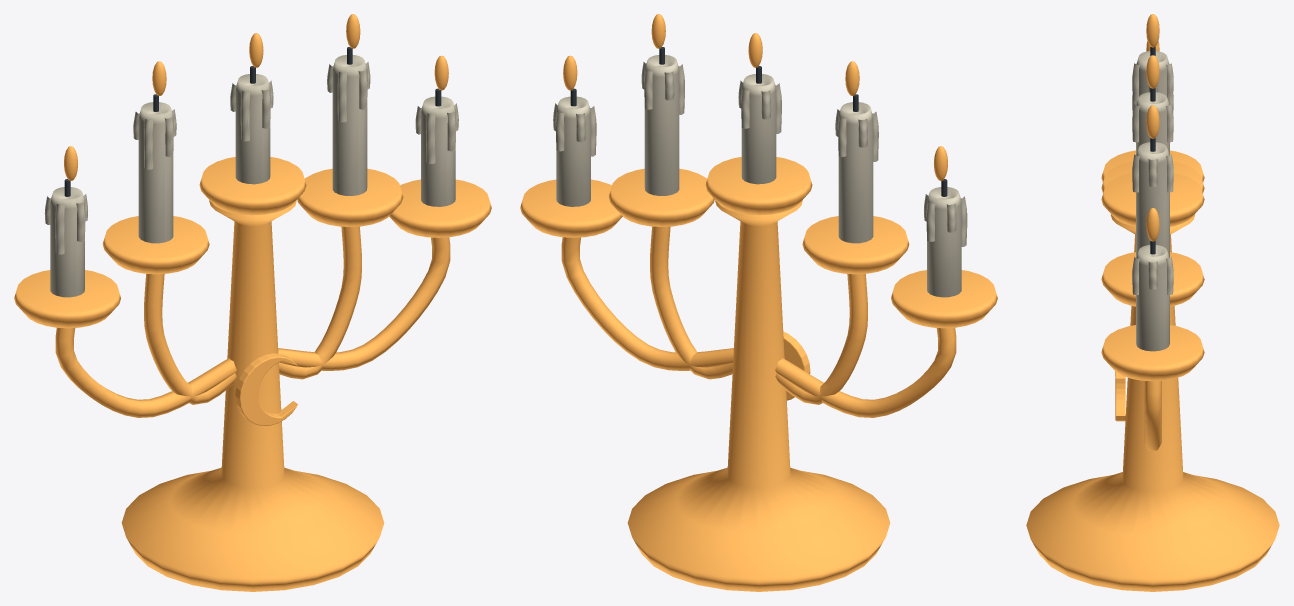
File: hollowwick-halloween-five-arm-candelabrum-30bc72f5__21619.glb
3 renders of one model, left to right at view 1: azimuth 30°, elevation 25°; view 2: azimuth 150°, elevation 25°; view 3: azimuth 270°, elevation 25°, orthographic. The views are drawn at different scales.
Parts seen in each view (by area): view 1: five-arm-candelabrum; view 2: five-arm-candelabrum; view 3: five-arm-candelabrum.
Boxes of the visible parts, x1,y1,x2,y2 form: five-arm-candelabrum: (14, 14, 491, 591); five-arm-candelabrum: (520, 14, 997, 591); five-arm-candelabrum: (1026, 14, 1279, 591).
Size of the model in its own units: 1.1 by 1.15 by 0.54.
Materials: 3 (1 with a texture image).
